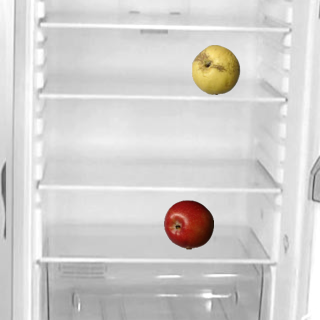Apple Braeburn: (163, 199, 213, 249)
Apple Golden 1: (190, 44, 240, 94)
